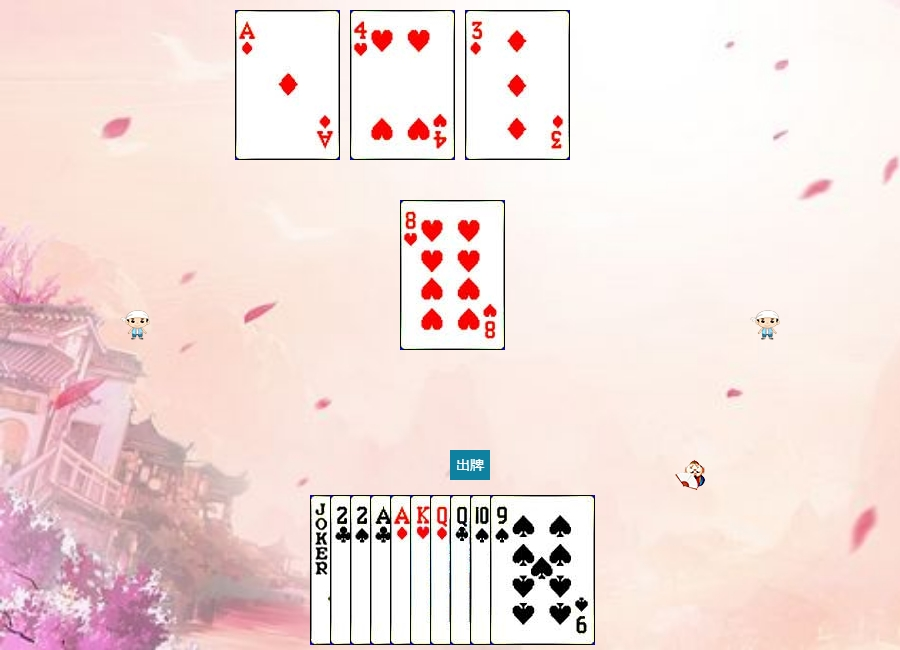10~4: (470, 495, 575, 645)
12~1: (430, 495, 535, 645)
12~2: (450, 495, 555, 645)
13~3: (410, 495, 515, 645)
14~1: (235, 10, 340, 160), (390, 495, 495, 645)
14~2: (370, 495, 475, 645)
15~2: (330, 495, 435, 645)
15~4: (350, 495, 455, 645)
17~3: (310, 495, 415, 645)
3~1: (465, 10, 570, 160)
4~3: (350, 10, 455, 160)
8~3: (400, 200, 505, 350)
9~4: (490, 495, 595, 645)
